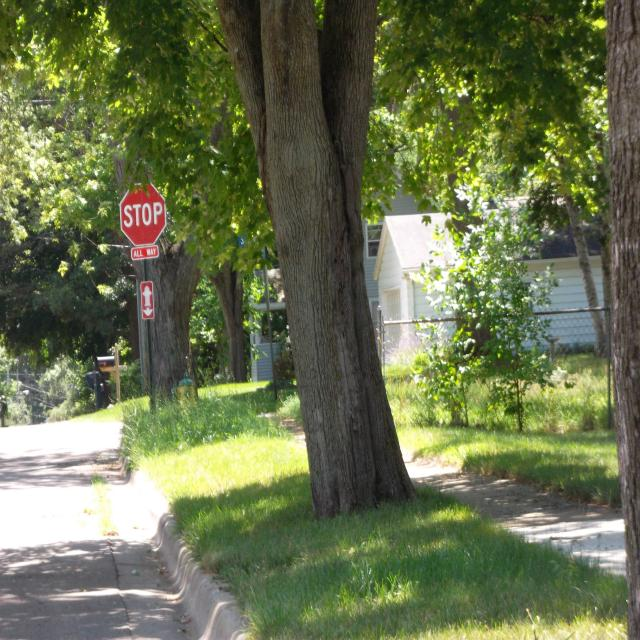regulatory: (130, 240, 162, 268)
stop: (114, 182, 174, 247)
